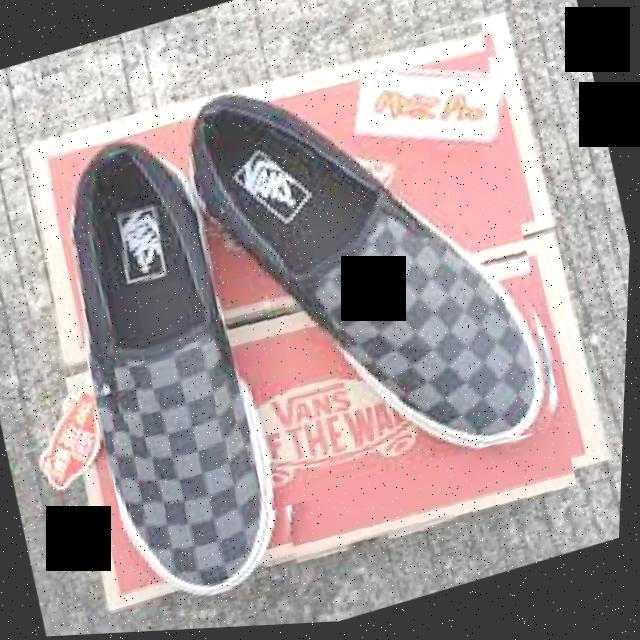shoe: (22, 19, 595, 626), (164, 6, 583, 519), (31, 107, 330, 634)
